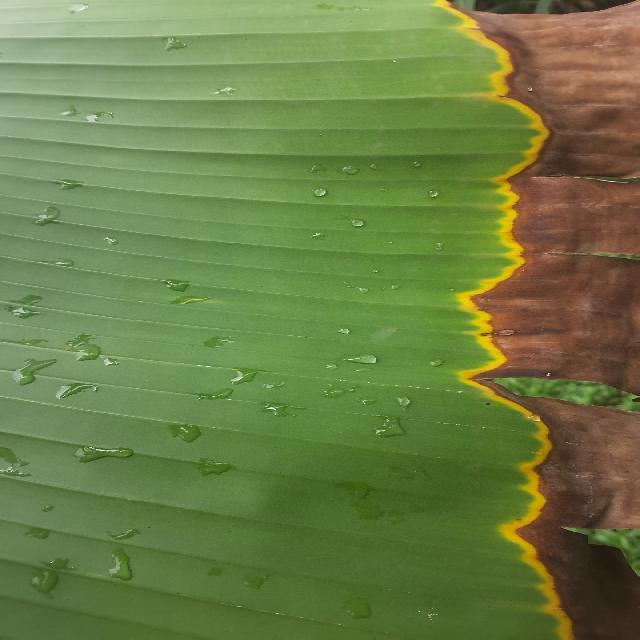Cordana: (344, 2, 620, 640)
